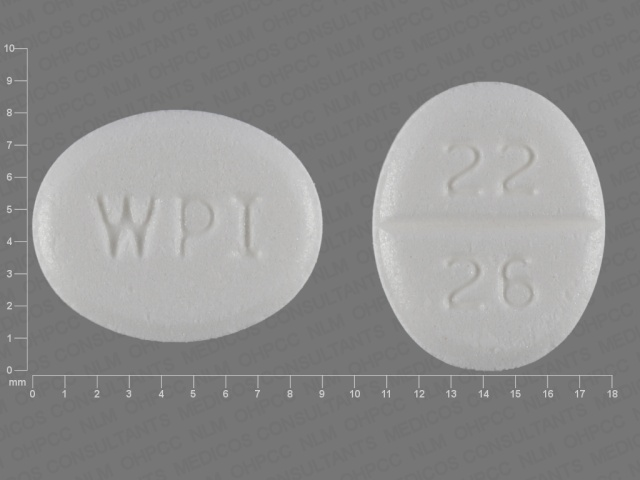2: (441, 252, 492, 318), (495, 137, 544, 199), (443, 137, 488, 203)
6: (494, 253, 539, 313)
I: (228, 188, 269, 266)
P: (174, 192, 214, 263)
W: (93, 186, 163, 260)
|: (367, 210, 616, 239)
